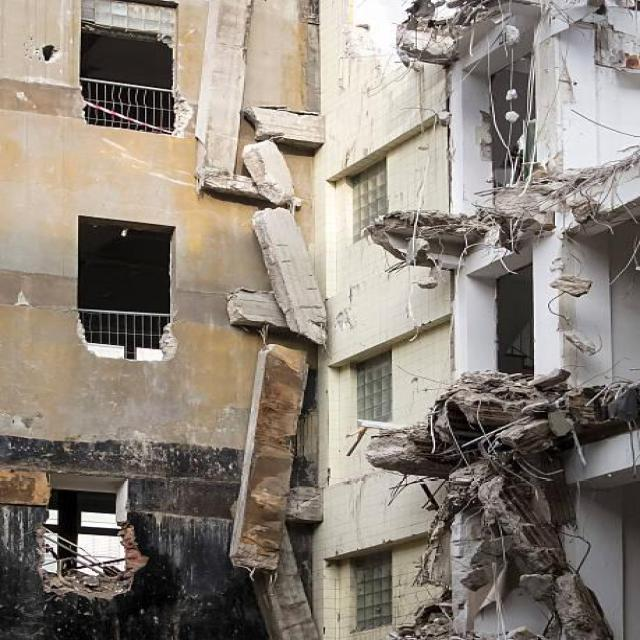diagonal crack: (334, 91, 369, 168)
